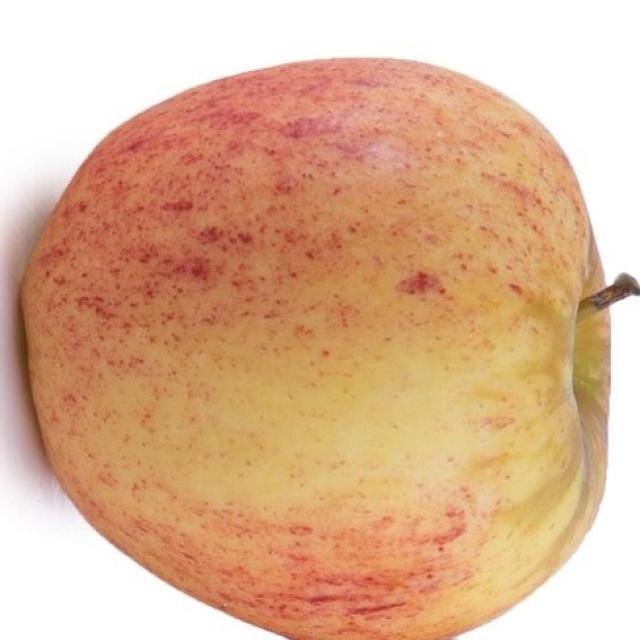75-_ripeness: (25, 70, 613, 632)
